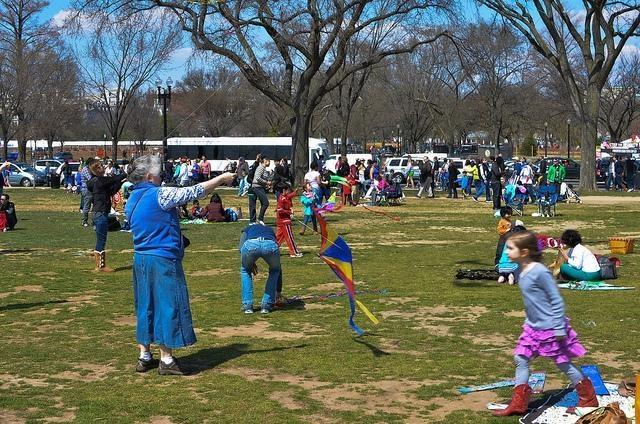bus: (168, 135, 331, 173)
car: (0, 161, 48, 187), (532, 156, 580, 178), (384, 157, 424, 182), (56, 162, 80, 186), (596, 157, 610, 188), (35, 159, 61, 173), (454, 161, 466, 179), (456, 144, 474, 153), (99, 159, 122, 166), (382, 150, 394, 157)
